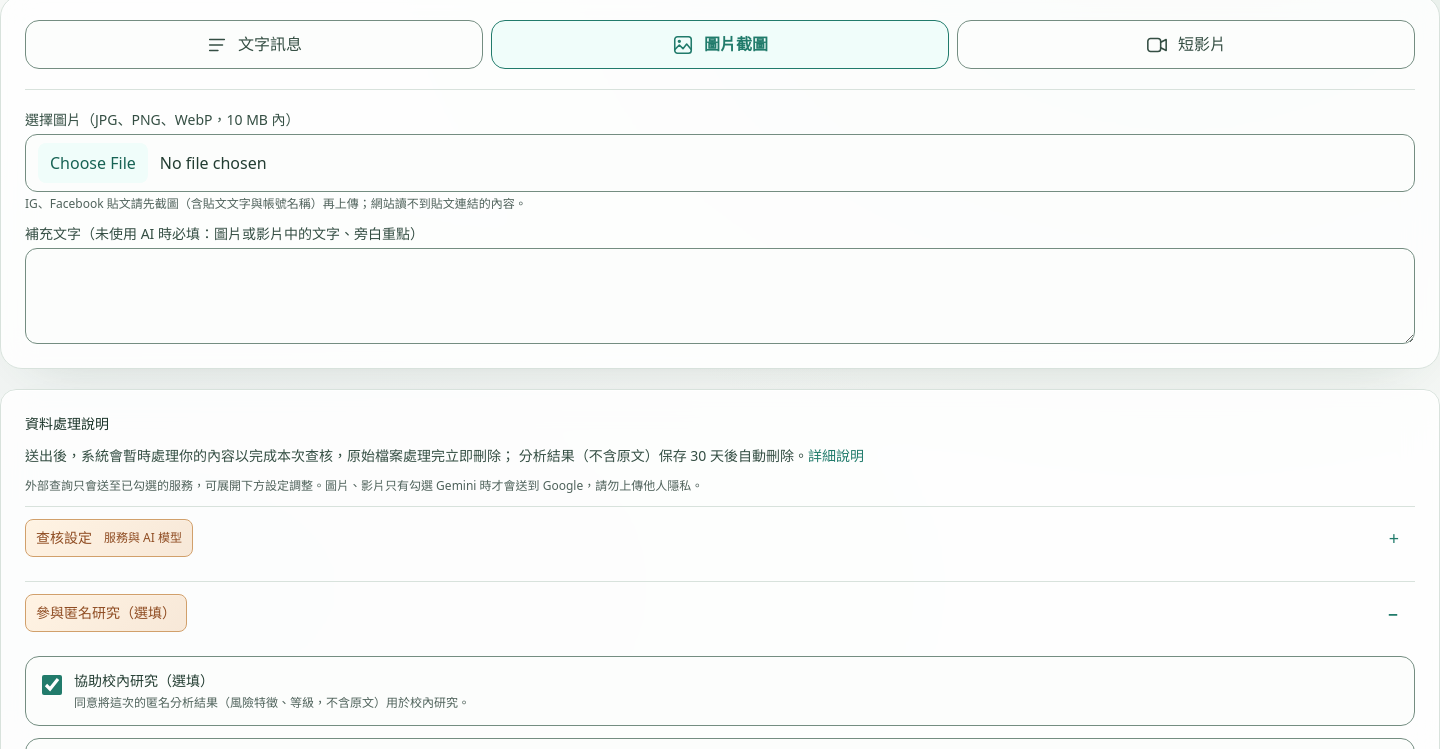
Test: Check page › consent C is disabled until B is checked
The image size is (1440, 749).
What coordinates should you click on to do the following:
click the checkbox labelled "協助校內研究（選填） 同意將這次的匿名分析結果（風險特徵、等級，不含原文）用於校內研究。"
I would click on:
 (52, 685)
Its box is [42,675,62,695].
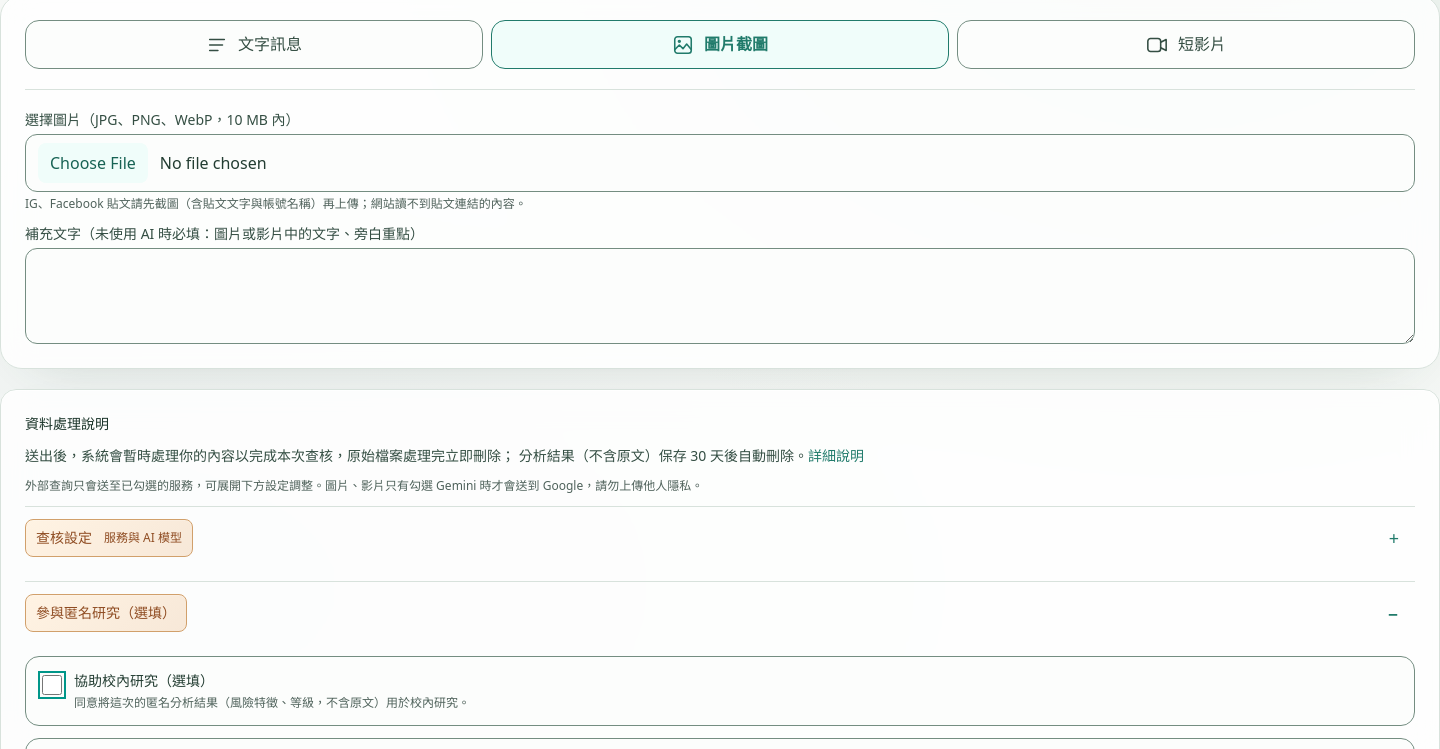
What coordinates should you click on to do the following:
click the checkbox labelled "協助校內研究（選填） 同意將這次的匿名分析結果（風險特徵、等級，不含原文）用於校內研究。"
I would click on:
 (52, 685)
Its box is [42,675,62,695].
(page scrolled)
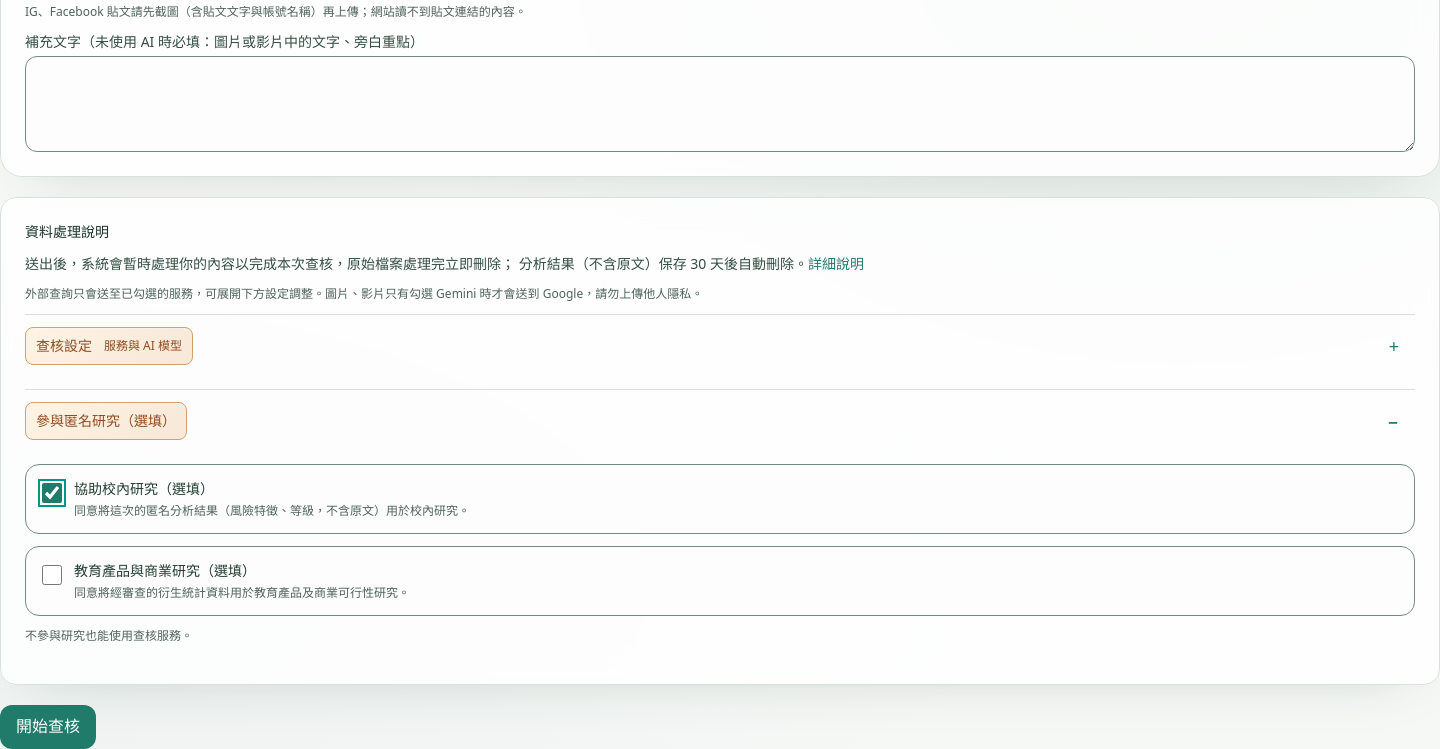
Result: the checkbox labelled "教育產品與商業研究（選填） 同意將經審查的衍生統計資料用於教育產品及商業可行性研究。" is enabled
What coordinates should you click on to do the following:
click the checkbox labelled "教育產品與商業研究（選填） 同意將經審查的衍生統計資料用於教育產品及商業可行性研究。"
I would click on:
 (52, 575)
Its box is [42,565,62,585].
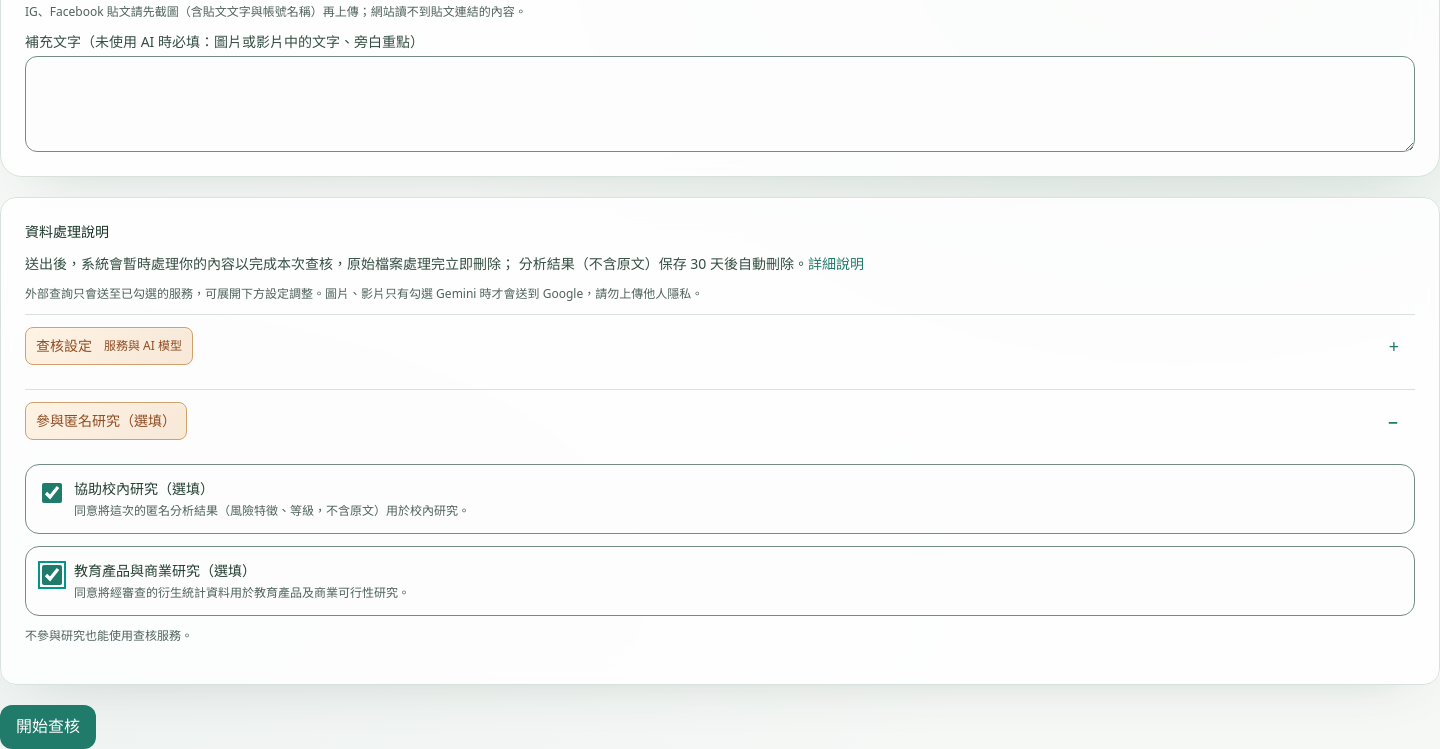
Result: the checkbox labelled "教育產品與商業研究（選填） 同意將經審查的衍生統計資料用於教育產品及商業可行性研究。" is checked at [42,565,62,585]
What coordinates should you click on to do the following:
click the checkbox labelled "協助校內研究（選填） 同意將這次的匿名分析結果（風險特徵、等級，不含原文）用於校內研究。"
I would click on:
 (52, 493)
Its box is [42,483,62,503].
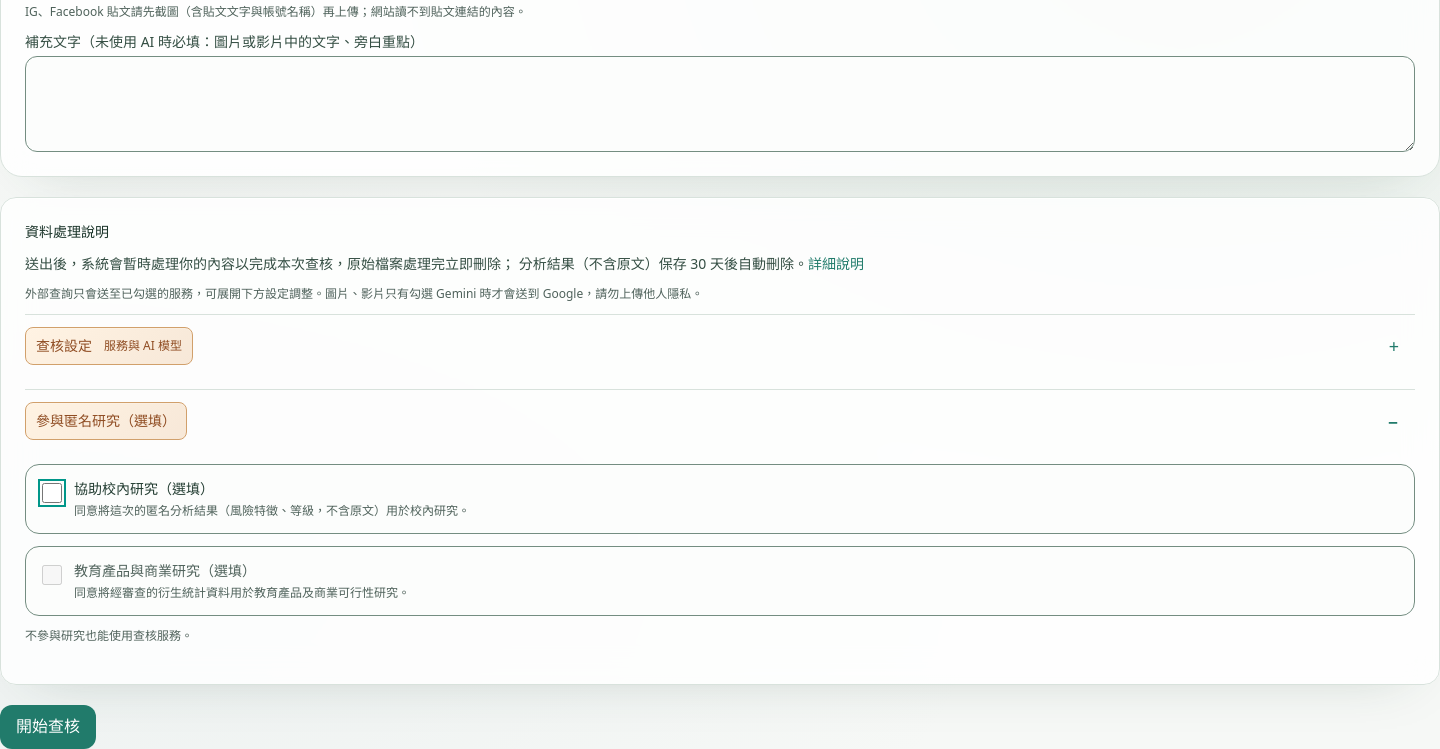
Result: the checkbox labelled "教育產品與商業研究（選填） 同意將經審查的衍生統計資料用於教育產品及商業可行性研究。" is not checked at [42,565,62,585]
Result: the checkbox labelled "教育產品與商業研究（選填） 同意將經審查的衍生統計資料用於教育產品及商業可行性研究。" is disabled at [42,565,62,585]
